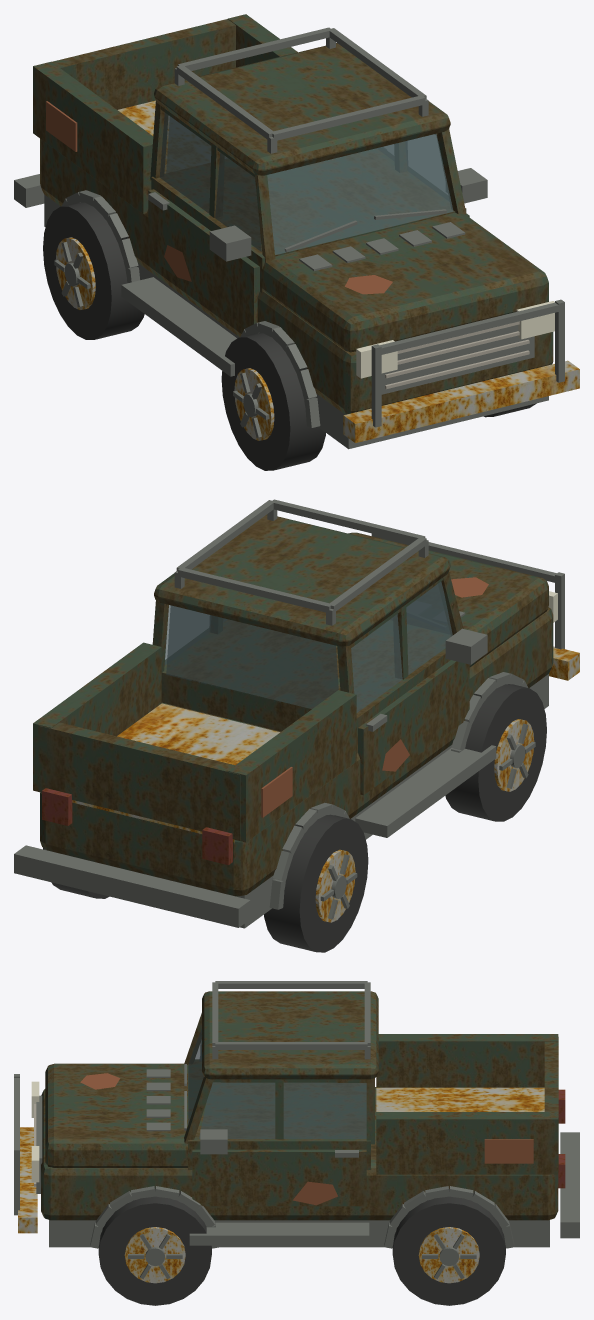
The model's file is pickup_olive.glb.
The picture shows the model from 3 angles, top to bottom: view 1: azimuth 30°, elevation 25°; view 2: azimuth 150°, elevation 25°; view 3: azimuth 270°, elevation 25°; orthographic projection. The views are drawn at different scales.
Parts seen in each view (by area): view 1: Hood_separate, Cab_roof_separate, Cab_lower, Windshield_glass_separate, Body_lower_separate, Pickup_bed_side_-1, Tailgate_separate, Tyre_-1_-1.3_separate, Tyre_-1_1.4_separate, Front_bumper, Side_door_-1_separate, Side_window_-1_separate (+27 smaller); view 2: Cab_roof_separate, Cab_lower, Body_lower_separate, Tailgate_separate, Rear_window_glass_separate, Pickup_bed_side_-1, Tyre_-1_1.4_separate, Rear_bumper, Side_door_-1_separate, Tyre_-1_-1.3_separate, Pickup_bed_side_1, Roof_rack_separate (+21 smaller); view 3: Body_lower_separate, Cab_roof_separate, Hood_separate, Cab_lower, Pickup_bed_side_1, Pickup_bed_side_-1, Side_door_1_separate, Side_window_1_separate, Tyre_1_1.4_separate, Tyre_1_-1.3_separate, Pickup_bed_floor, Running_board_1 (+19 smaller).
Part boxes in pixels (x1=…): Hood_separate: x1=262, y1=212, x2=548, y2=352; Cab_roof_separate: x1=154, y1=43, x2=450, y2=175; Cab_lower: x1=151, y1=148, x2=466, y2=293; Windshield_glass_separate: x1=267, y1=134, x2=453, y2=254; Body_lower_separate: x1=40, y1=138, x2=553, y2=414; Pickup_bed_side_-1: x1=33, y1=61, x2=153, y2=213; Tailgate_separate: x1=52, y1=19, x2=235, y2=109; Tyre_-1_-1.3_separate: x1=221, y1=333, x2=325, y2=470; Tyre_-1_1.4_separate: x1=43, y1=202, x2=144, y2=339; Front_bumper: x1=343, y1=360, x2=579, y2=442; Side_door_-1_separate: x1=148, y1=189, x2=259, y2=327; Side_window_-1_separate: x1=160, y1=113, x2=261, y2=251; Cab_roof_separate: x1=154, y1=514, x2=450, y2=646; Cab_lower: x1=161, y1=619, x2=450, y2=753; Body_lower_separate: x1=40, y1=607, x2=553, y2=896; Tailgate_separate: x1=38, y1=722, x2=240, y2=840; Rear_window_glass_separate: x1=166, y1=605, x2=338, y2=708; Pickup_bed_side_-1: x1=227, y1=690, x2=356, y2=842; Tyre_-1_1.4_separate: x1=264, y1=814, x2=368, y2=952; Rear_bumper: x1=14, y1=845, x2=250, y2=927; Side_door_-1_separate: x1=358, y1=660, x2=469, y2=795; Tyre_-1_-1.3_separate: x1=445, y1=684, x2=546, y2=821; Pickup_bed_side_1: x1=33, y1=642, x2=161, y2=792; Roof_rack_separate: x1=174, y1=499, x2=428, y2=625; Body_lower_separate: x1=41, y1=1087, x2=558, y2=1220; Cab_roof_separate: x1=202, y1=991, x2=378, y2=1079; Hood_separate: x1=45, y1=1063, x2=190, y2=1167; Cab_lower: x1=188, y1=1059, x2=370, y2=1169; Pickup_bed_side_1: x1=376, y1=1112, x2=558, y2=1174; Pickup_bed_side_-1: x1=376, y1=1034, x2=558, y2=1087; Side_door_1_separate: x1=192, y1=1149, x2=366, y2=1206; Side_window_1_separate: x1=199, y1=1082, x2=366, y2=1138; Tyre_1_1.4_separate: x1=392, y1=1196, x2=505, y2=1305; Tyre_1_-1.3_separate: x1=98, y1=1196, x2=211, y2=1305; Pickup_bed_floor: x1=376, y1=1087, x2=544, y2=1111; Running_board_1: x1=189, y1=1222, x2=369, y2=1245.
Bounding box in the file's own units: 2.36 × 2.45 × 5.2.
Materials: 9 (3 with a texture image).
